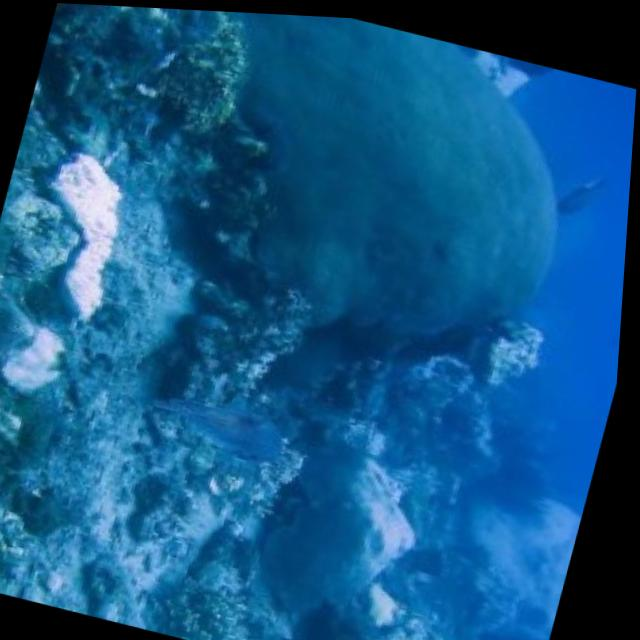Bleached Coral: (0, 146, 178, 418)
Healthy Coral: (218, 10, 592, 353)
